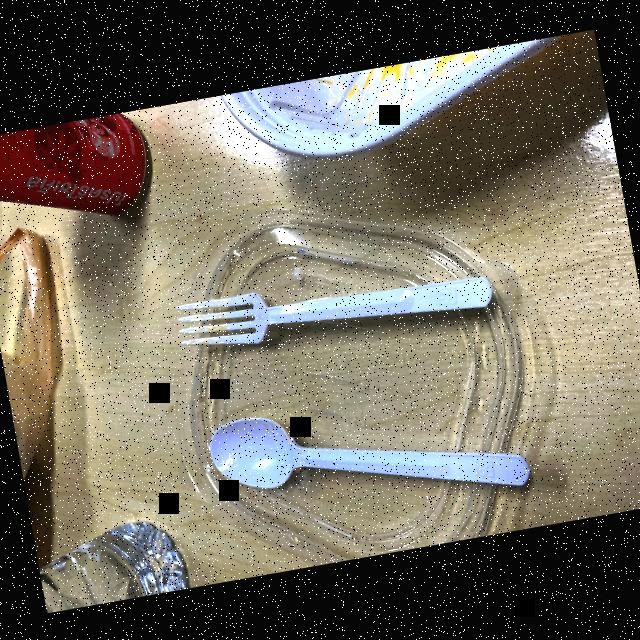plastic_cultery: (197, 359, 540, 544)
